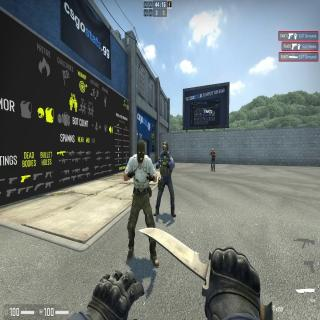CT-Body: (158, 140, 173, 213)
CT-Head: (162, 142, 168, 154)
T-Body: (128, 140, 150, 258), (210, 148, 216, 171)
T-Head: (136, 140, 145, 163), (212, 148, 214, 153)
